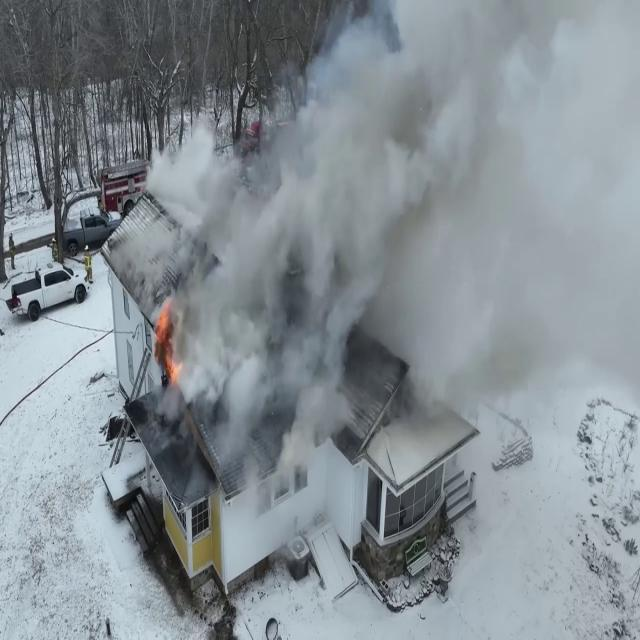Fire: (150, 288, 184, 382)
Smoke: (149, 1, 639, 536)
